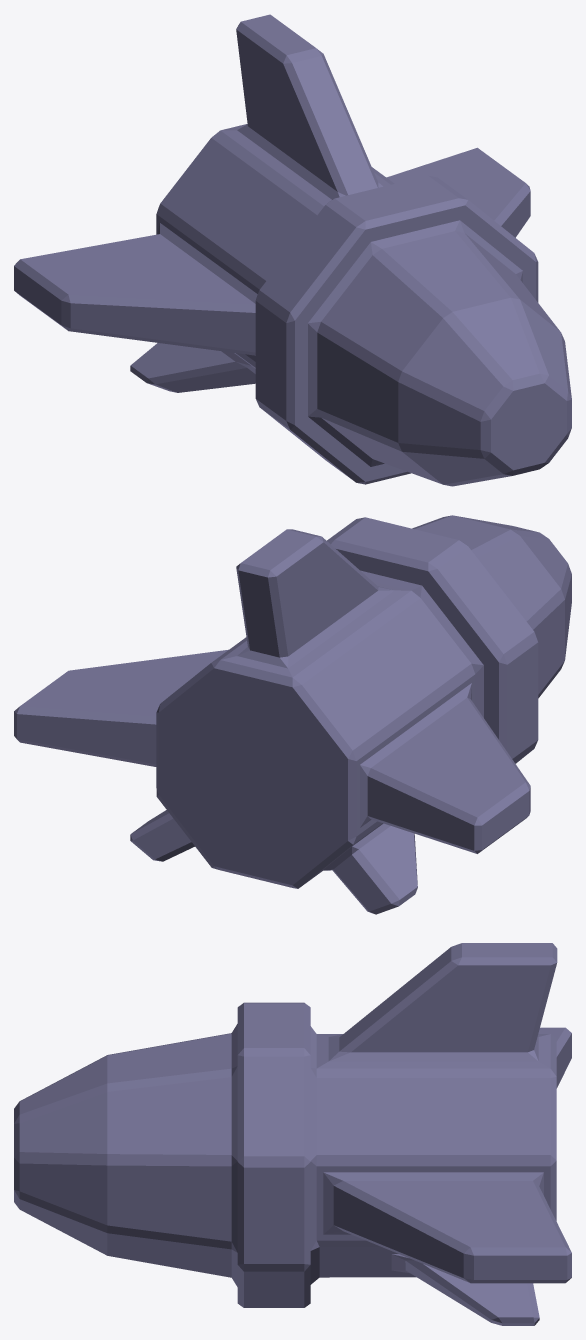
The model's file is bullet.glb.
3 renders of one model, top to bottom at view 1: azimuth 30°, elevation 25°; view 2: azimuth 150°, elevation 25°; view 3: azimuth 270°, elevation 25°, orthographic.
Visible parts, largest first — view 1: bullet; view 2: bullet; view 3: bullet.
Boxes of the visible parts, x1,y1,x2,y2 form: bullet: [14, 14, 571, 486]; bullet: [14, 515, 571, 914]; bullet: [14, 943, 571, 1325].
Bounding box in the file's own units: 4.32 × 3 × 4.53.
